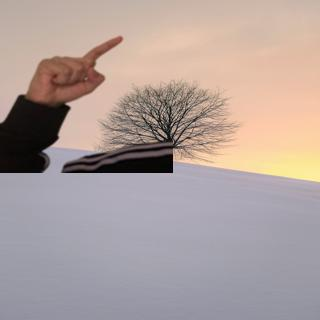WHY: (24, 30, 128, 105)
